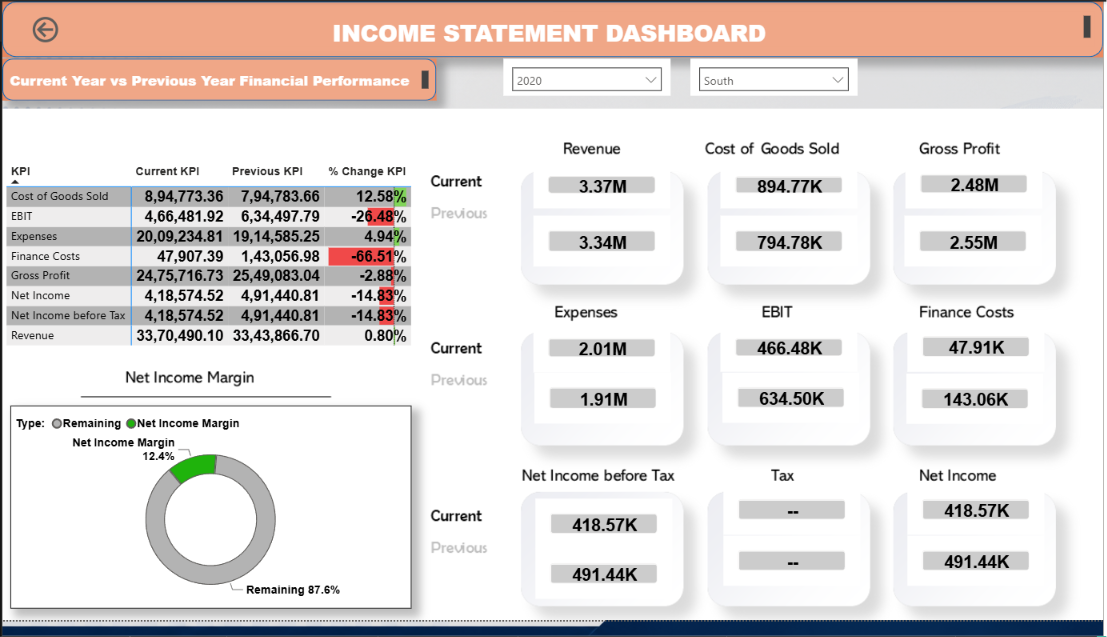

What the dashboard file says about the page in this screenshot:
{"tool":"powerbi","page":{"name":"Income Statement","canvas":[1280,720],"ordinal":2},"visuals":[{"type":"group","id":"g1","title":"Group 1","box":[0,0,1280,64.4],"z":0},{"type":"shape","box":[0,0,1280,64.4],"z":0,"group":"g2"},{"type":"shape","box":[0,66.7,504.4,48.9],"z":0,"group":"g3"},{"type":"group","id":"g2","title":"Group 2","box":[0,0,1280,64.4],"z":3,"group":"g1"},{"type":"group","id":"g3","title":"Group 2","box":[0,66.7,504.4,48.9],"z":3,"group":"g4"},{"type":"textbox","box":[9.5,11.6,1261,41.2],"z":1000,"group":"g2"},{"type":"group","id":"g4","title":"Group 1","box":[0,66.7,504.4,48.9],"z":1000},{"type":"textbox","box":[3.7,75.5,497,31.2],"z":1000,"group":"g3"},{"type":"image","box":[0,124.4,1280.2,595.4],"z":2000},{"type":"cardVisual","fields":{"Data":["Measure Table.Revenue"]},"box":[617.4,186,159.3,54.7],"z":3000},{"type":"cardVisual","fields":{"Data":["PY Measure.Revenue PY"]},"box":[617.4,248.8,159.3,59.3],"z":4000},{"type":"cardVisual","fields":{"Data":["Measure Table.COGS"]},"box":[834.9,186,159.3,54.7],"z":5000},{"type":"cardVisual","fields":{"Data":["PY Measure.COGS PY"]},"box":[834.9,248.8,159.3,59.3],"z":6000},{"type":"cardVisual","fields":{"Data":["Measure Table.Gross Profit"]},"box":[1050,183.7,159.3,57],"z":7000},{"type":"cardVisual","fields":{"Data":["PY Measure.Gross Profit PY"]},"box":[1048.8,248.8,159.3,59.3],"z":8000},{"type":"cardVisual","fields":{"Data":["Measure Table.Expenses"]},"box":[617.4,374.4,159.3,57],"z":9000},{"type":"cardVisual","fields":{"Data":["PY Measure.Expenses PY"]},"box":[618.6,431.4,159.3,59.3],"z":10000},{"type":"cardVisual","fields":{"Data":["Measure Table.EBIT"]},"box":[834.9,374.4,159.3,55.8],"z":11000},{"type":"cardVisual","fields":{"Data":["PY Measure.EBIT PY"]},"box":[837.2,431.4,159.3,58.1],"z":12000},{"type":"cardVisual","fields":{"Data":["Measure Table.Finance Costs"]},"box":[1052.3,372.1,159.3,58.1],"z":13000},{"type":"cardVisual","fields":{"Data":["PY Measure.Finance Costs PY"]},"box":[1051.2,432.6,159.3,58.1],"z":14000},{"type":"cardVisual","fields":{"Data":["Measure Table.NIBT"]},"box":[619.8,577.9,159.3,58.1],"z":15000},{"type":"cardVisual","fields":{"Data":["PY Measure.NIBT PY"]},"box":[619.8,636,159.3,58.1],"z":16000},{"type":"cardVisual","fields":{"Data":["Measure Table.TAX"]},"box":[838.4,561.6,159.3,58.1],"z":17000},{"type":"cardVisual","fields":{"Data":["PY Measure.Tax PY"]},"box":[838.4,620.9,159.3,58.1],"z":18000},{"type":"cardVisual","fields":{"Data":["Measure Table.Net Income"]},"box":[1051.9,561.9,159.3,58.1],"z":19000},{"type":"cardVisual","fields":{"Data":["PY Measure.Net Income PY"]},"box":[1051.9,621.2,159.3,58.1],"z":20000},{"type":"slicer","fields":{"Values":["Fact_Journal.Division"]},"box":[800,66.3,194.2,43],"z":21000},{"type":"donutChart","fields":{"Category":["Margin Category.Type"],"Y":["Measure Table.Margin Value"]},"box":[9.3,469.8,466.3,236],"z":22000},{"type":"pivotTable","fields":{"Values":["Financial KPI.Current KPI","Financial KPI.Previous KPI","Financial KPI.% Change KPI"],"Rows":["Financial KPI.KPI"]},"box":[0,183.7,487.2,236],"z":23000},{"type":"slicer","fields":{"Values":["DATE TABLE.YEAR"]},"box":[582.6,66.3,194.2,43],"z":24000},{"type":"actionButton","box":[30.2,12.8,46.5,39.5],"z":24001,"group":"g1"}]}

Visuals, with their boxes in screenshot pixels (x1, y1, x2, y2), scaled from the page's 1280x720 canvas onto the 1107x637 screenshot:
"Group 1" group: detection(0, 0, 1106, 57)
shape: detection(0, 0, 1106, 57)
shape: detection(0, 59, 436, 102)
"Group 2" group: detection(0, 0, 1106, 57)
"Group 2" group: detection(0, 59, 436, 102)
textbox: detection(8, 10, 1099, 47)
"Group 1" group: detection(0, 59, 436, 102)
textbox: detection(3, 67, 433, 94)
image: detection(0, 110, 1106, 636)
cardVisual - Measure Table.Revenue: detection(534, 165, 672, 213)
cardVisual - PY Measure.Revenue PY: detection(534, 220, 672, 273)
cardVisual - Measure Table.COGS: detection(722, 165, 860, 213)
cardVisual - PY Measure.COGS PY: detection(722, 220, 860, 273)
cardVisual - Measure Table.Gross Profit: detection(908, 163, 1046, 213)
cardVisual - PY Measure.Gross Profit PY: detection(907, 220, 1045, 273)
cardVisual - Measure Table.Expenses: detection(534, 331, 672, 382)
cardVisual - PY Measure.Expenses PY: detection(535, 382, 673, 434)
cardVisual - Measure Table.EBIT: detection(722, 331, 860, 381)
cardVisual - PY Measure.EBIT PY: detection(724, 382, 862, 433)
cardVisual - Measure Table.Finance Costs: detection(910, 329, 1048, 381)
cardVisual - PY Measure.Finance Costs PY: detection(909, 383, 1047, 434)
cardVisual - Measure Table.NIBT: detection(536, 511, 674, 563)
cardVisual - PY Measure.NIBT PY: detection(536, 563, 674, 614)
cardVisual - Measure Table.TAX: detection(725, 497, 863, 548)
cardVisual - PY Measure.Tax PY: detection(725, 549, 863, 601)
cardVisual - Measure Table.Net Income: detection(910, 497, 1047, 549)
cardVisual - PY Measure.Net Income PY: detection(910, 550, 1047, 601)
slicer - Fact_Journal.Division: detection(692, 59, 860, 97)
donutChart - Margin Category.Type x Measure Table.Margin Value: detection(8, 416, 411, 624)
pivotTable - Financial KPI.Current KPI x Financial KPI.Previous KPI: detection(0, 163, 421, 371)
slicer - DATE TABLE.YEAR: detection(504, 59, 672, 97)
actionButton: detection(26, 11, 66, 46)
